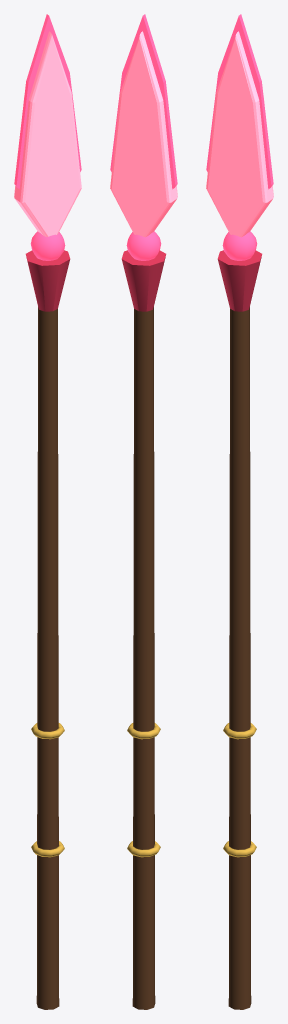
Rendered from spear_f0_72599914.glb.
The picture shows the model from 3 angles, left to right: view 1: azimuth 30°, elevation 25°; view 2: azimuth 150°, elevation 25°; view 3: azimuth 330°, elevation 25°; orthographic projection.
Parts seen in each view (by area): view 1: m0_ow80_, m2_ow80_, m4_ow80_, m1_gm130_, m3_gm160_, m5_ow80_; view 2: m0_ow80_, m2_ow80_, m4_ow80_, m1_gm130_, m3_gm160_, m5_ow80_; view 3: m0_ow80_, m2_ow80_, m4_ow80_, m1_gm130_, m3_gm160_, m5_ow80_.
Part boxes in pixels (x1,y1,x2,y2): m0_ow80_: (36, 307, 59, 1009); m2_ow80_: (14, 31, 81, 236); m4_ow80_: (25, 250, 70, 311); m1_gm130_: (14, 14, 81, 189); m3_gm160_: (30, 231, 65, 260); m5_ow80_: (31, 723, 64, 857); m0_ow80_: (132, 307, 155, 1009); m2_ow80_: (110, 31, 177, 237); m4_ow80_: (121, 250, 166, 311); m1_gm130_: (110, 14, 177, 189); m3_gm160_: (126, 231, 161, 260); m5_ow80_: (127, 723, 160, 857); m0_ow80_: (228, 307, 251, 1009); m2_ow80_: (206, 31, 273, 237); m4_ow80_: (217, 250, 262, 311); m1_gm130_: (206, 14, 273, 189); m3_gm160_: (222, 231, 257, 260); m5_ow80_: (223, 723, 256, 857).
Bounding box in the file's own units: 0.2596 × 3.78 × 0.16.
